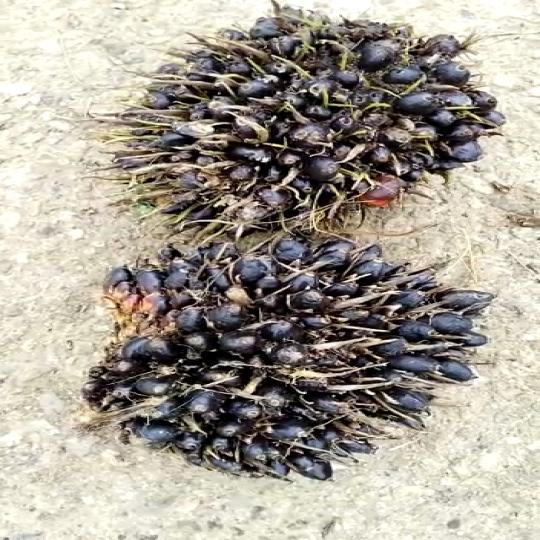mentah: (74, 226, 498, 508), (87, 0, 499, 240)
